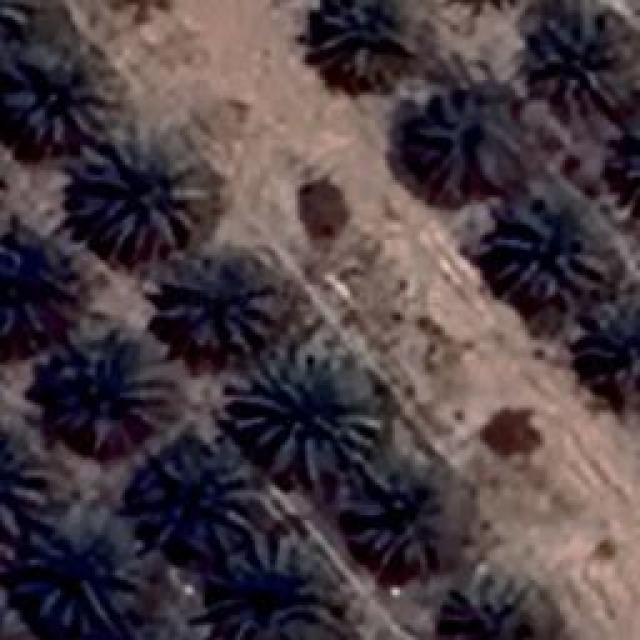PalmTree: (230, 348, 385, 482), (70, 135, 215, 255), (125, 432, 258, 558), (18, 508, 151, 628), (490, 175, 612, 303), (42, 325, 176, 430), (215, 532, 343, 638), (2, 37, 116, 145), (412, 90, 520, 198), (155, 255, 275, 350), (348, 468, 442, 570), (570, 276, 640, 412), (520, 15, 620, 110), (0, 222, 78, 336), (310, 0, 418, 80), (431, 580, 571, 640), (0, 425, 52, 555), (598, 84, 640, 228), (95, 607, 191, 640), (0, 598, 36, 640), (0, 0, 36, 41)
